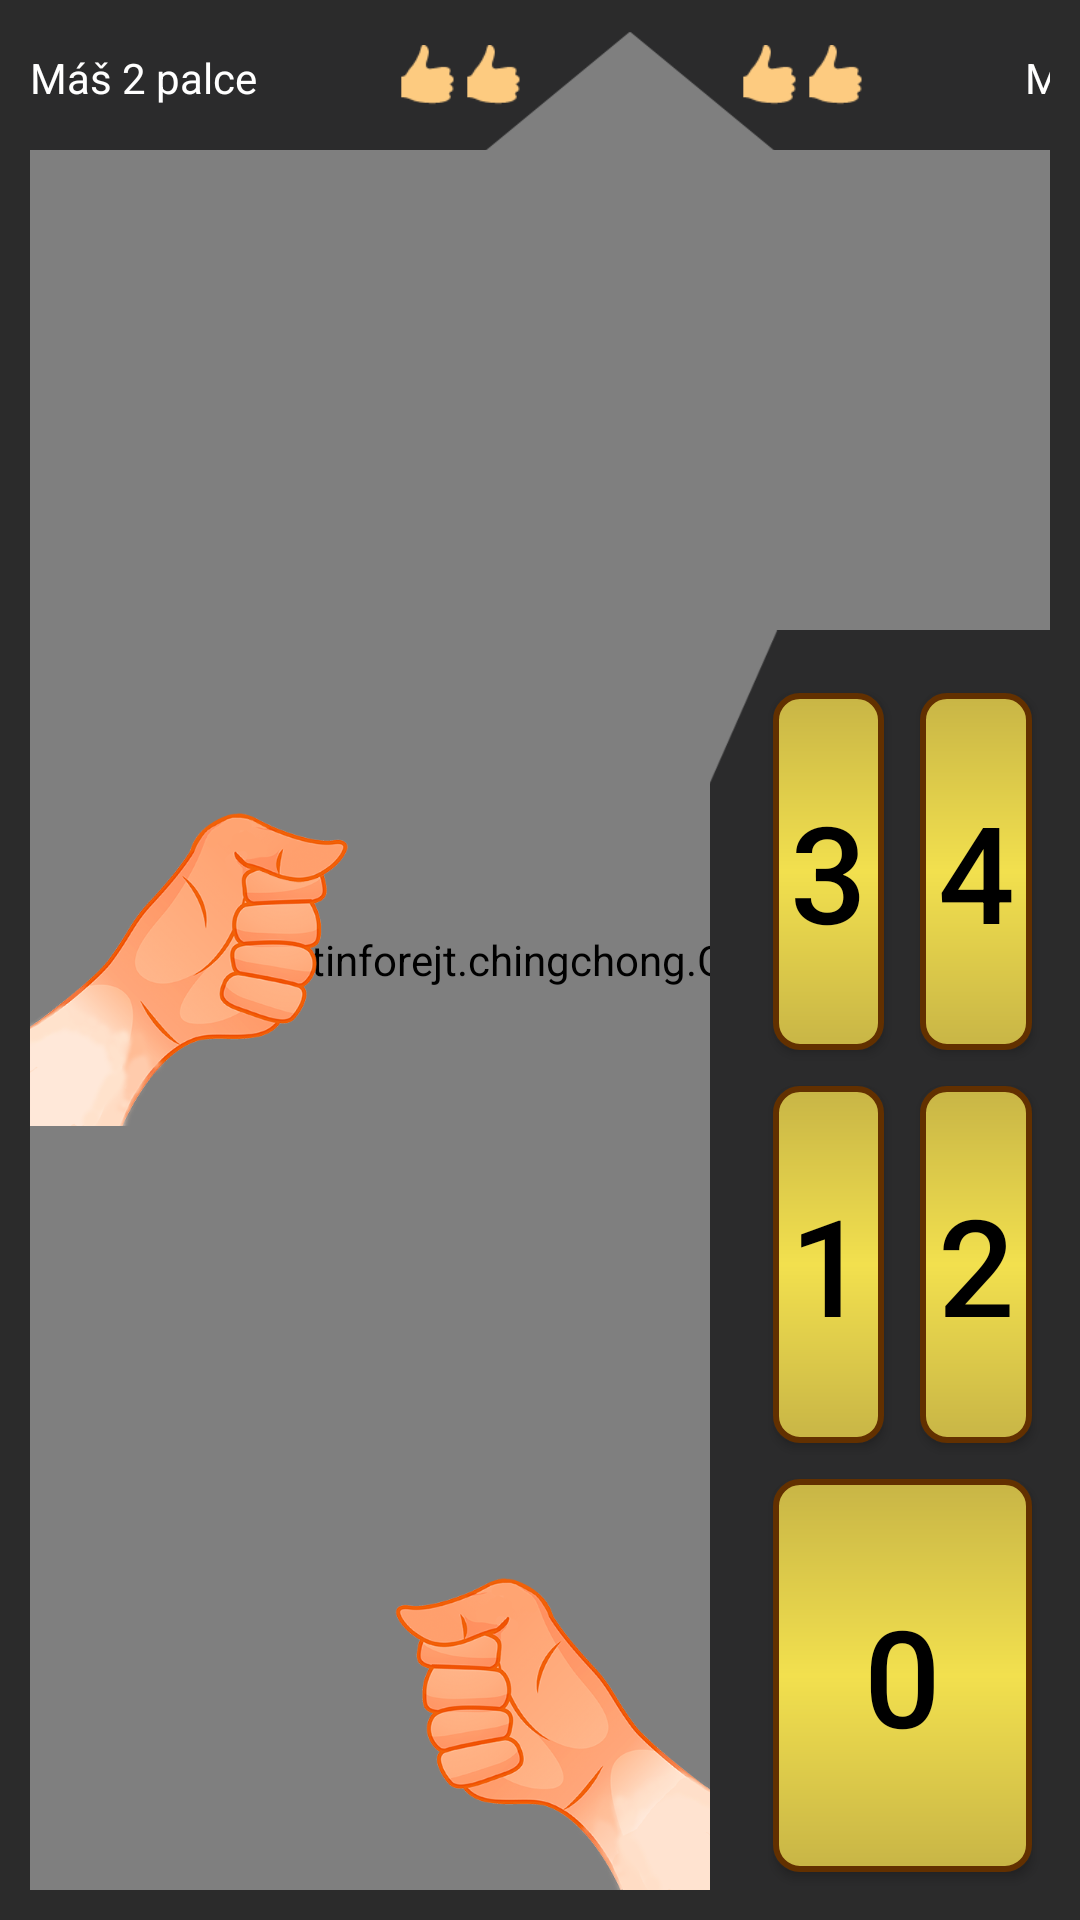

Where to tap for icons on this 1080 x 1920 app screen, as point (x, y):
thumb: point (427, 74), point (493, 74), point (769, 74), point (835, 74)
